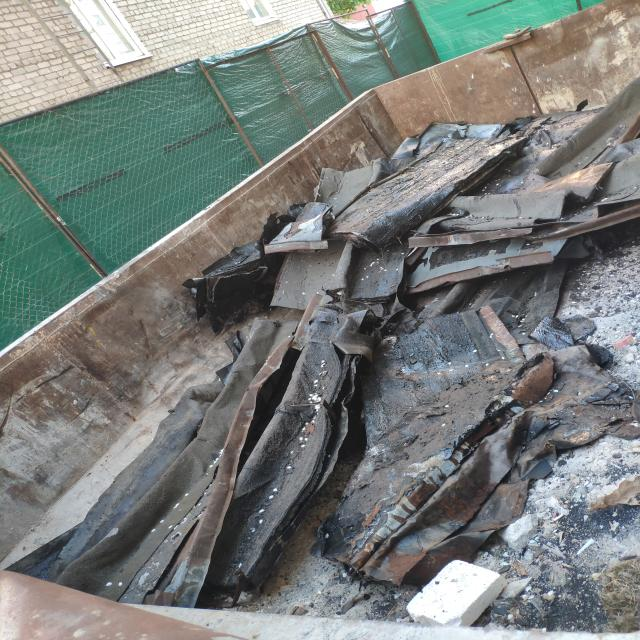entulho: (189, 309, 380, 598), (367, 347, 595, 564), (335, 132, 623, 284), (188, 188, 345, 332), (37, 452, 203, 572), (501, 427, 639, 548), (408, 556, 514, 622)
